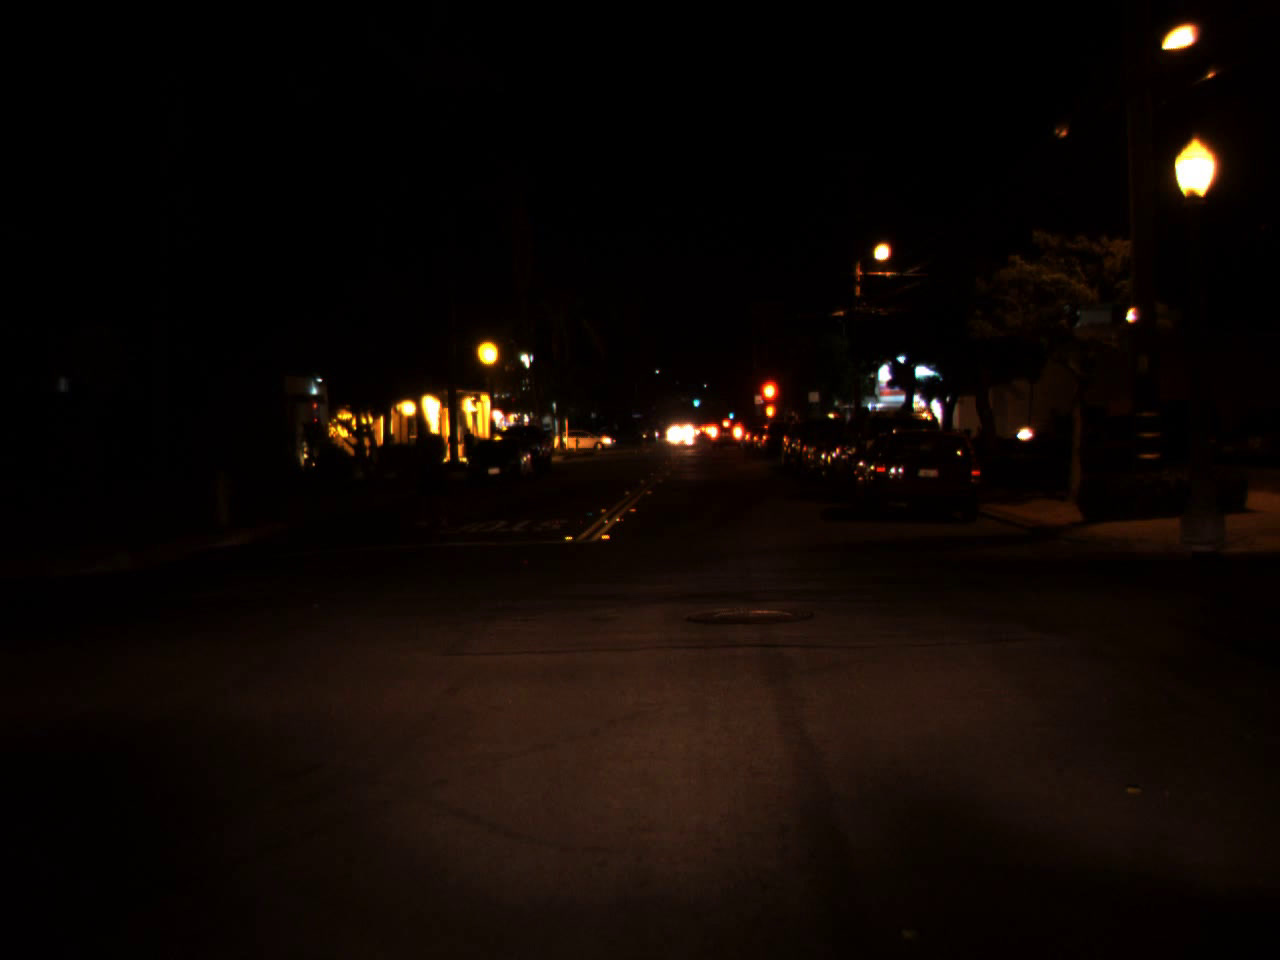go: (692, 392, 699, 407), (727, 407, 734, 419)
stop: (758, 377, 782, 425)
